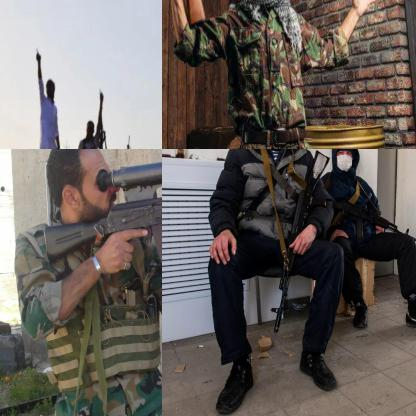rifle: (43, 149, 161, 294), (269, 149, 331, 334), (327, 200, 414, 238)
